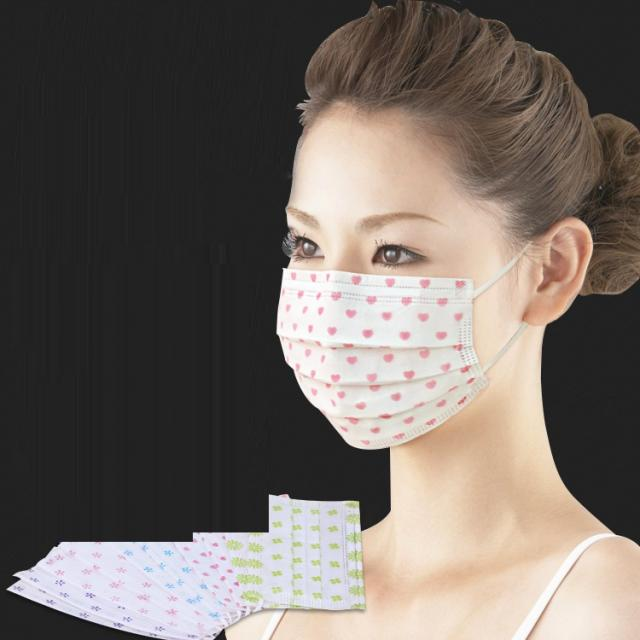mask: (276, 121, 494, 449)
